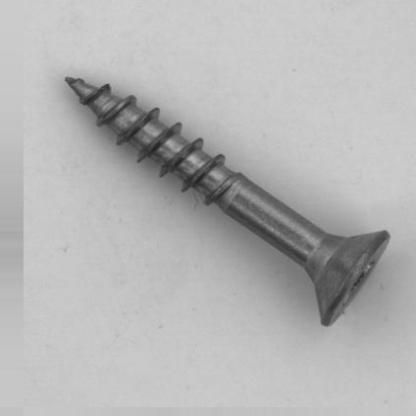metal: (63, 75, 390, 326)
